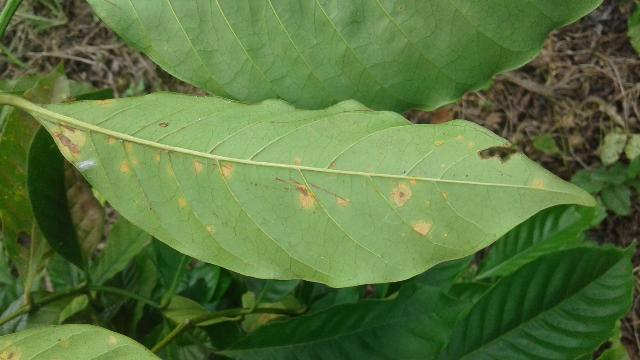rust_level_1: (31, 92, 596, 288)
